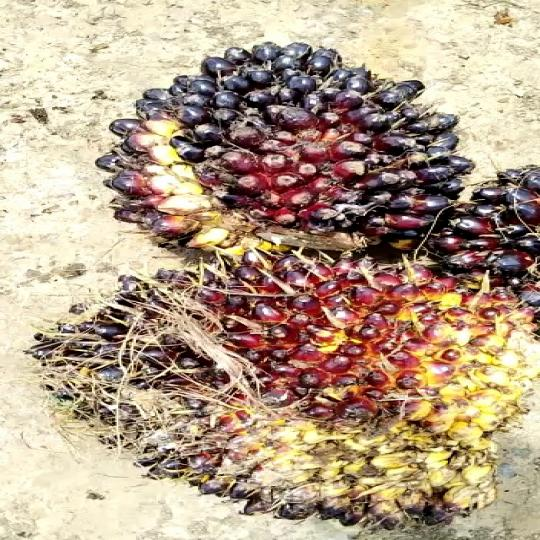mentah: (25, 252, 518, 540), (102, 24, 455, 267)
